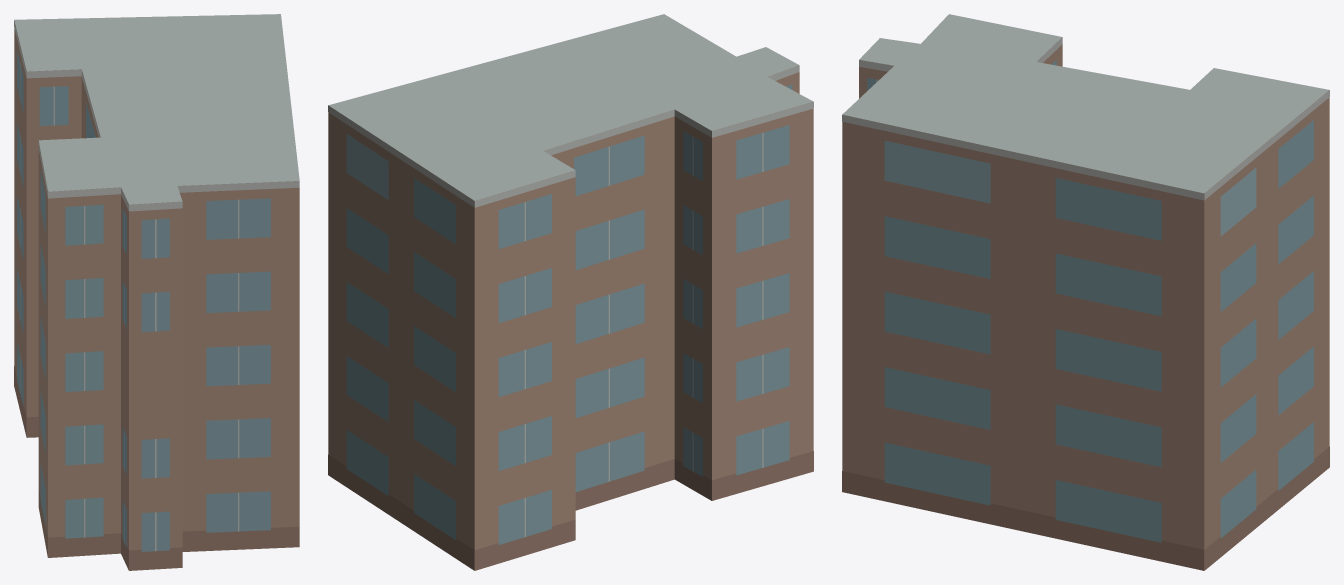
File: survey-upis-32843582.glb
3 renders of one model, left to right at view 1: azimuth 30°, elevation 25°; view 2: azimuth 150°, elevation 25°; view 3: azimuth 270°, elevation 25°, orthographic. The views are drawn at different scales.
Visible parts, largest first — view 1: survey-upis-32843582.tmp; view 2: survey-upis-32843582.tmp; view 3: survey-upis-32843582.tmp.
Boxes of the visible parts, x1,y1,x2,y2 form: survey-upis-32843582.tmp: (14, 14, 299, 570); survey-upis-32843582.tmp: (328, 14, 813, 570); survey-upis-32843582.tmp: (842, 14, 1329, 570).
Size of the model in its own units: 13.37 by 13.1 by 15.35.
